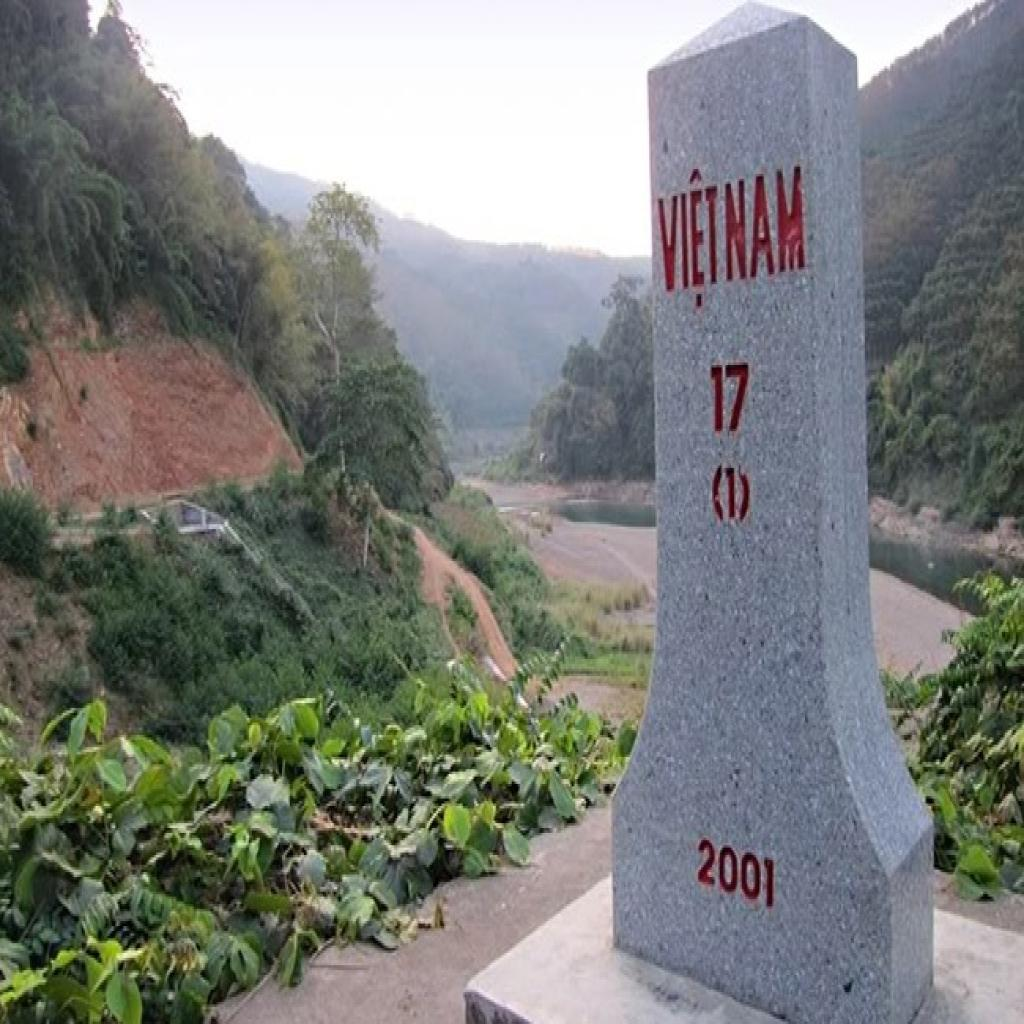text: (651, 160, 723, 324), (723, 159, 810, 294), (706, 350, 758, 446), (708, 458, 756, 537)
